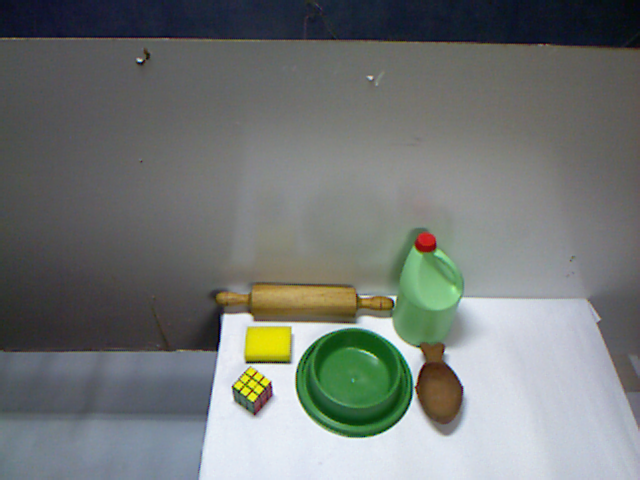cloroplano: (219, 239, 292, 357)
esponja: (319, 370, 387, 430)
greda: (287, 295, 373, 375)
guante: (368, 280, 480, 450)
jabon: (265, 364, 307, 419)
mostaza: (211, 338, 258, 409)
